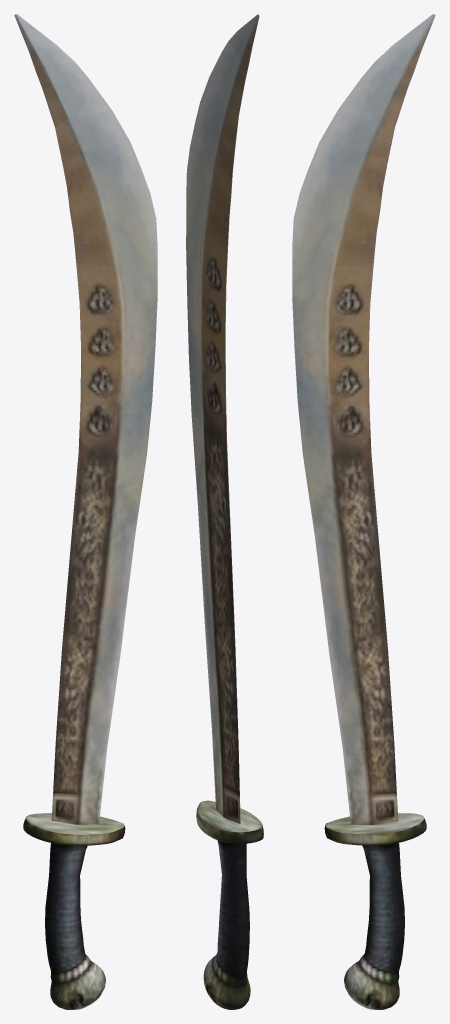
The model's file is sashimi_sword.glb.
3 renders of one model, left to right at view 1: azimuth 90°, elevation 25°; view 2: azimuth 210°, elevation 25°; view 3: azimuth 270°, elevation 25°, orthographic. The views are drawn at different scales.
Parts seen in each view (by area): view 1: sword_4.001; view 2: sword_4.001; view 3: sword_4.001.
Part boxes in pixels (x1,y1,x2,y2): sword_4.001: (14,14,157,1009); sword_4.001: (186,14,263,1009); sword_4.001: (292,14,435,1009).
Bounding box in the file's own units: 0.0549 × 1.2 × 0.1565.
1 material, 1 textured.
